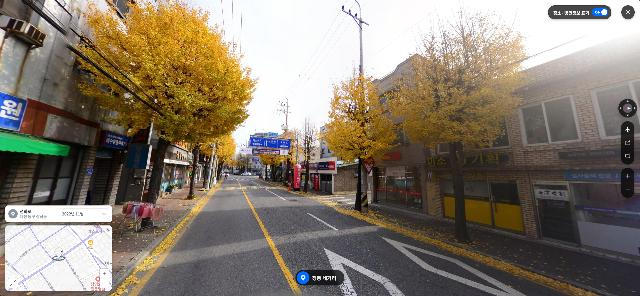ginkgo: (73, 0, 253, 229), (371, 0, 535, 242), (163, 65, 259, 199), (322, 56, 402, 211), (195, 139, 236, 191), (294, 116, 321, 193), (278, 119, 303, 188), (260, 154, 284, 183)
